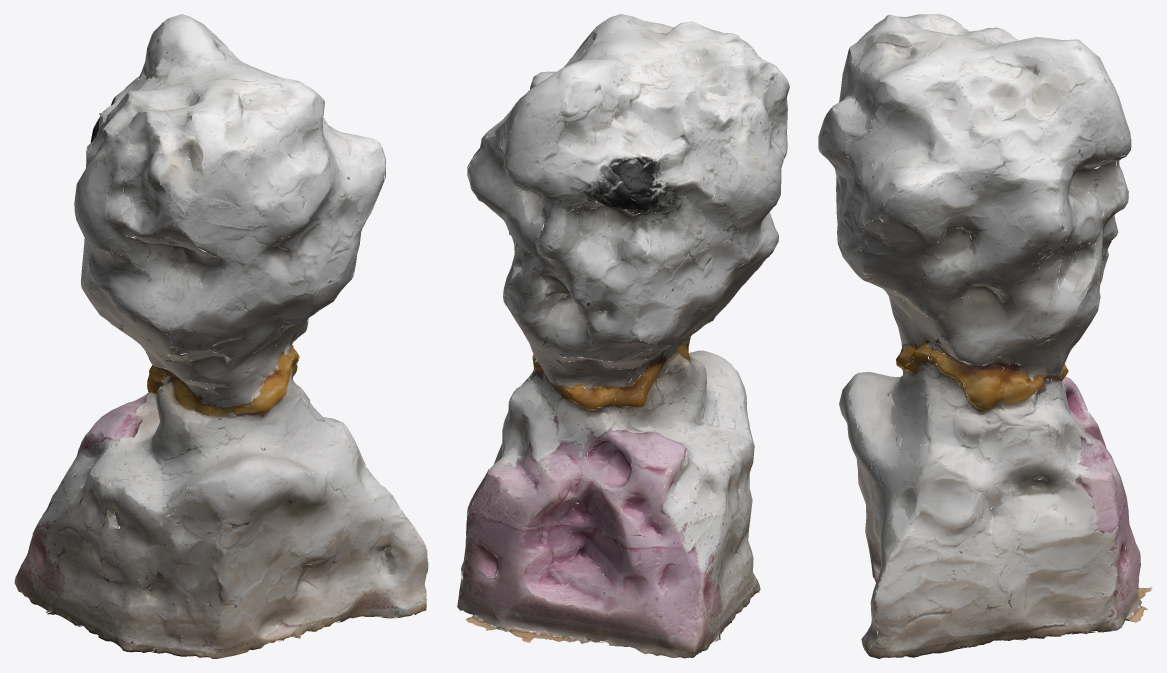
3 views of the same model, side by side, from view 1: azimuth 30°, elevation 25°; view 2: azimuth 150°, elevation 25°; view 3: azimuth 270°, elevation 25° (orthographic). The views are drawn at different scales.
Visible parts, largest first — view 1: Mesh_0_Part_0; view 2: Mesh_0_Part_0; view 3: Mesh_0_Part_0.
Part boxes in pixels (box(x1,y1,x2,y2)): Mesh_0_Part_0: box(14, 14, 428, 658); Mesh_0_Part_0: box(457, 14, 789, 658); Mesh_0_Part_0: box(818, 14, 1152, 658).
Size of the model in its own units: 5.26 by 9.16 by 5.06.
1 material, 1 textured.
